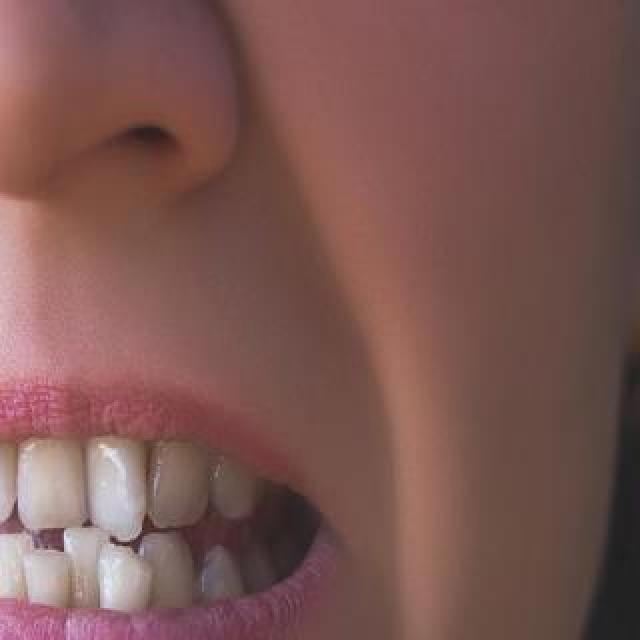maligned: (68, 428, 168, 542), (11, 440, 101, 540), (140, 533, 196, 629), (62, 523, 116, 619), (0, 532, 40, 612)
